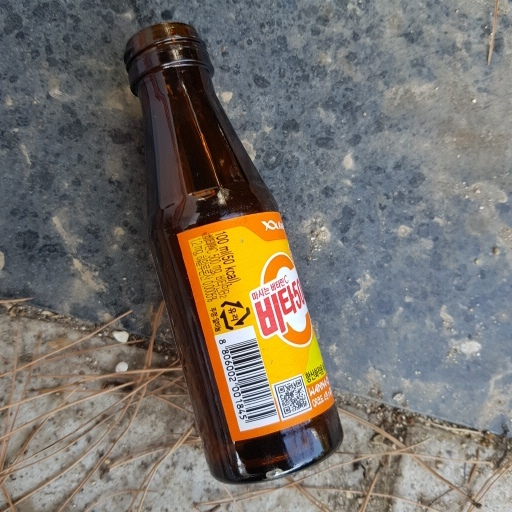Glass_3: (124, 19, 343, 484)
